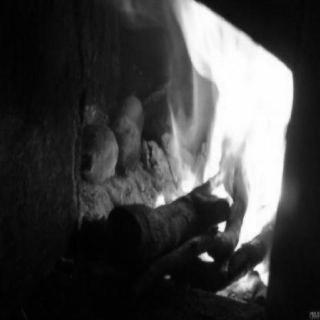Fire: (127, 1, 291, 291)
